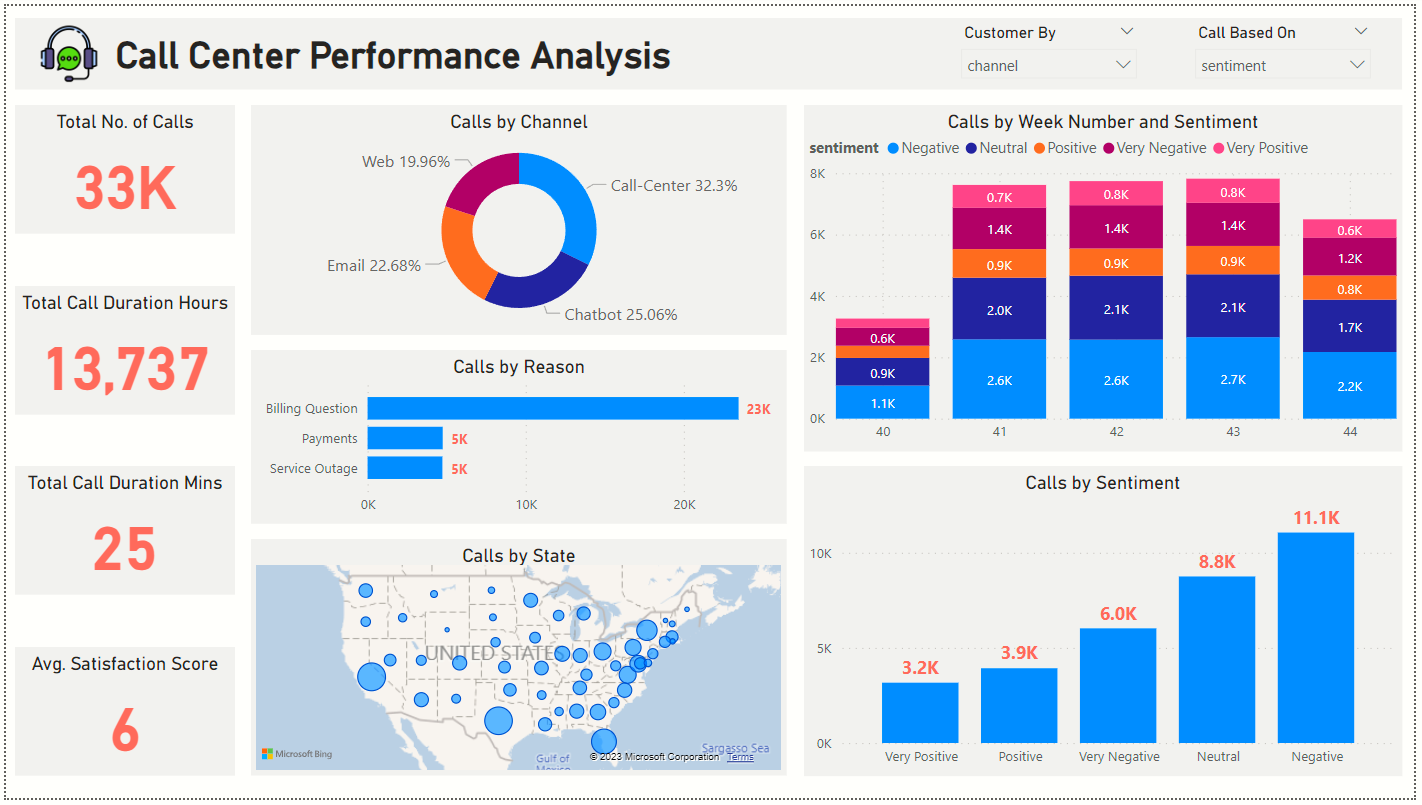

What the dashboard file says about the page in this screenshot:
{"tool":"powerbi","page":{"name":"Page 1","canvas":[1280,720],"ordinal":0},"visuals":[{"type":"card","title":"Total No. of Calls","fields":{"Values":["Call Center.Total Calls"]},"box":[8.2,90,200,117.3],"z":0},{"type":"card","title":"Total Call Duration Hours","fields":{"Values":["Call Center.Total Call Duration Hrs"]},"box":[8.2,254.2,200,117.3],"z":1000},{"type":"card","title":"Total Call Duration Mins","fields":{"Values":["Call Center.Avg Call Duration in Mins"]},"box":[8.2,418.5,200,117.3],"z":2000},{"type":"card","title":"Avg. Satisfaction Score","fields":{"Values":["Call Center.Avg Csat Score"]},"box":[8.2,582.7,200,117.3],"z":3000},{"type":"textbox","box":[8.2,10.9,1260.9,65.5],"z":4000},{"type":"clusteredBarChart","title":"Calls by Reason","fields":{"Category":["Call Center.reason"],"Y":["Call Center.Total Calls"]},"box":[222.7,312.7,487.3,158.2],"z":4001},{"type":"clusteredColumnChart","title":"Calls by Sentiment","fields":{"Category":["Call Center.sentiment"],"Y":["Call Center.Total Calls"]},"box":[725.5,418.2,543.6,281.8],"z":4002},{"type":"slicer","fields":{"Values":["Customer By.Customer By"]},"box":[858.2,10.9,180,65.5],"z":4003},{"type":"donutChart","title":"Calls by Channel","fields":{"Category":["Call Center.state"],"Y":["Call Center.Total Calls"]},"box":[222.7,90,487.3,209.1],"z":4004},{"type":"columnChart","title":"Calls by Week Number and Sentiment","fields":{"Y":["Call Center.Total Calls"],"Category":["Call Center.Week Number"],"Series":["Call Center.sentiment"]},"box":[725.5,90,543.6,315.5],"z":4005},{"type":"slicer","fields":{"Values":["Call Based On.Call Based On"]},"box":[1070.9,10.9,180,65.5],"z":4006},{"type":"map","title":"Calls by State","fields":{"Category":["Call Center.state"],"Size":["Call Center.Total Calls"]},"box":[222.7,484.5,487.3,215.5],"z":4007},{"type":"image","box":[21.8,10.9,70.9,65.5],"z":4008}]}

Visuals, with their boxes in screenshot pixels (x1, y1, x2, y2), scaled from the page's 1280x720 canvas onto the 1422x805 screenshot:
"Total No. of Calls" card: <region>9, 101, 231, 232</region>
"Total Call Duration Hours" card: <region>9, 284, 231, 415</region>
"Total Call Duration Mins" card: <region>9, 468, 231, 599</region>
"Avg. Satisfaction Score" card: <region>9, 651, 231, 783</region>
textbox: <region>9, 12, 1410, 85</region>
"Calls by Reason" clusteredBarChart: <region>247, 350, 789, 526</region>
"Calls by Sentiment" clusteredColumnChart: <region>806, 468, 1410, 783</region>
slicer - Customer By.Customer By: <region>953, 12, 1153, 85</region>
"Calls by Channel" donutChart: <region>247, 101, 789, 334</region>
"Calls by Week Number and Sentiment" columnChart: <region>806, 101, 1410, 453</region>
slicer - Call Based On.Call Based On: <region>1190, 12, 1390, 85</region>
"Calls by State" map: <region>247, 542, 789, 783</region>
image: <region>24, 12, 103, 85</region>
